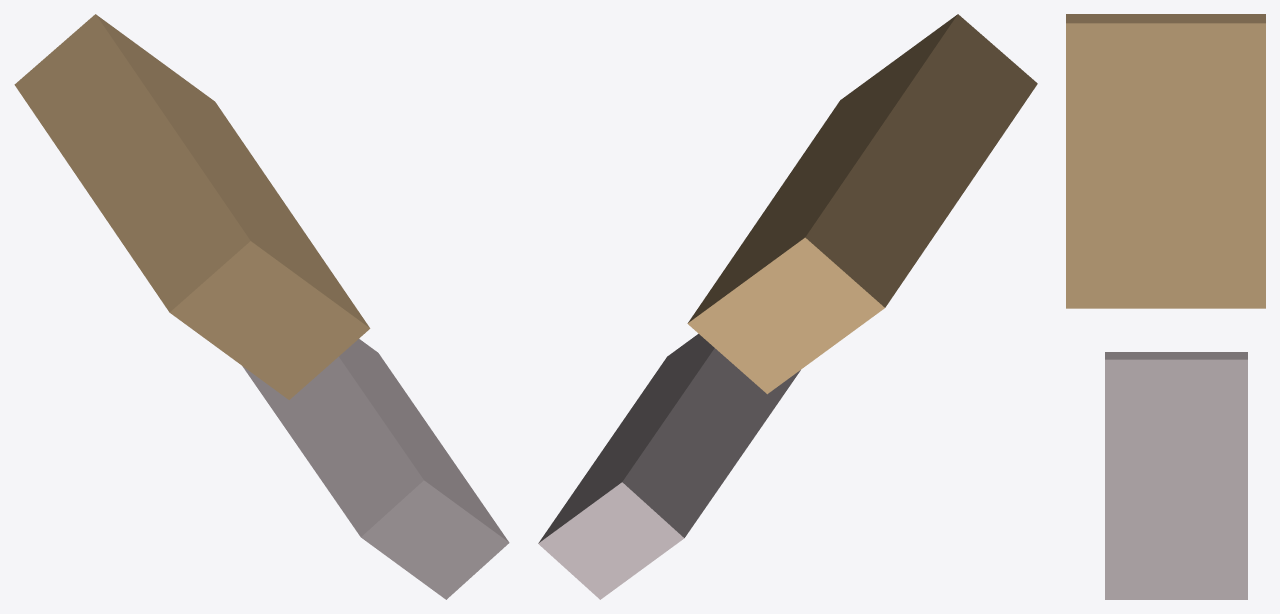
3 renders of one model, left to right at view 1: azimuth 30°, elevation 25°; view 2: azimuth 150°, elevation 25°; view 3: azimuth 270°, elevation 25°, orthographic. The views are drawn at different scales.
Visible parts, largest first — view 1: 0_0_3_2_0_1_3_3_2; view 2: 0_0_3_2_0_1_3_3_2; view 3: 0_0_3_2_0_1_3_3_2.
Part boxes in pixels (x1=…): 0_0_3_2_0_1_3_3_2: x1=14, y1=14, x2=509, y2=599; 0_0_3_2_0_1_3_3_2: x1=538, y1=14, x2=1037, y2=599; 0_0_3_2_0_1_3_3_2: x1=1066, y1=14, x2=1265, y2=599.
Size of the model in its own units: 40.39 by 55.9 by 21.
